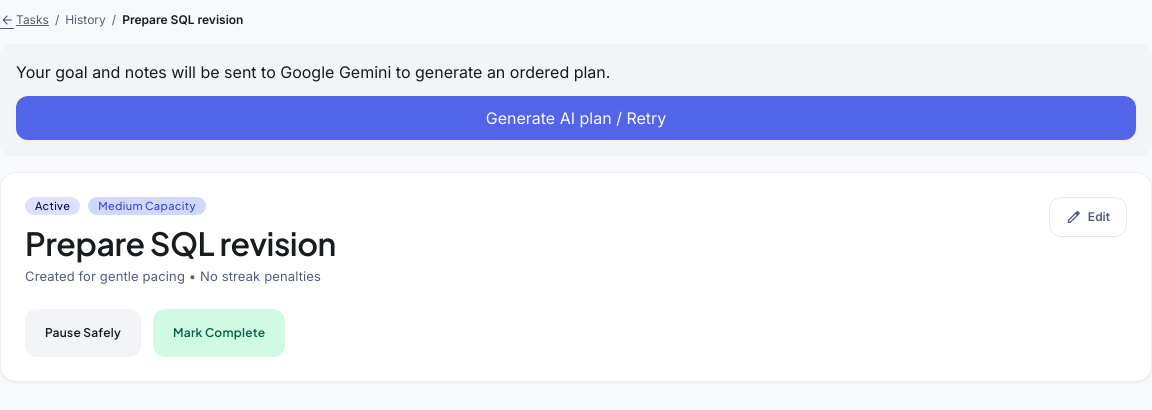
it: saved AI plan review › retains a saved task and offers retry when Gemini is unavailable
The image size is (1152, 410).
Click the button "Generate AI plan / Retry" at (576,118), box [16,96,1136,140]
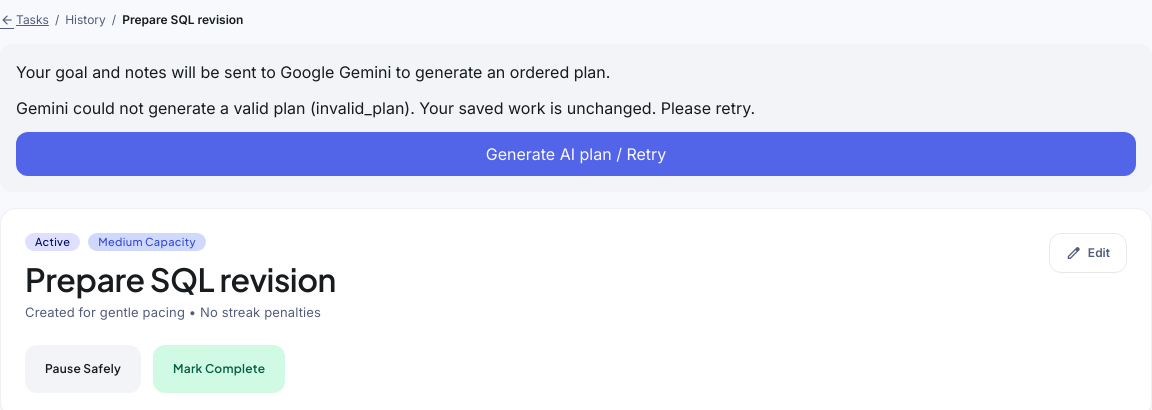
Expected: the text "Prepare SQL revision" is shown 2 times, [122,12,244,28]; [25,259,336,299]
Now the message shows "invalid_plan", box [16,98,755,118]
Click the button "Generate AI plan / Retry" at (576,154), box [16,132,1136,176]
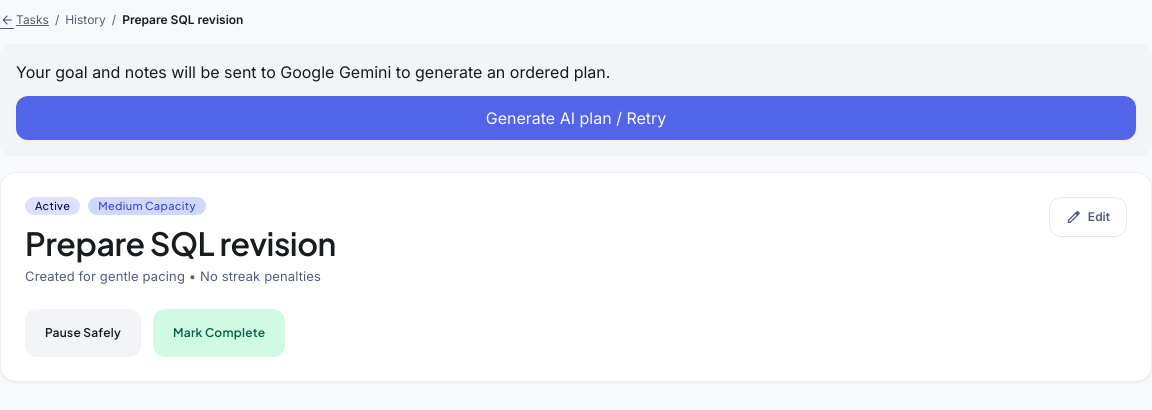
Now the message is gone
